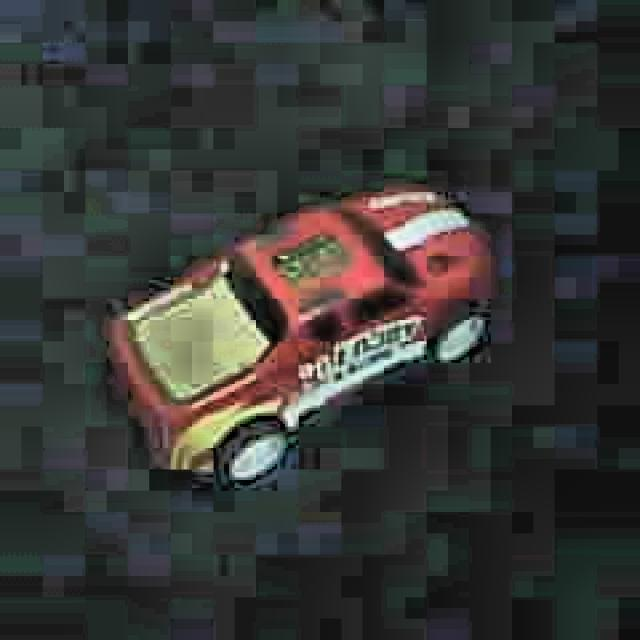car: (98, 184, 497, 501)
